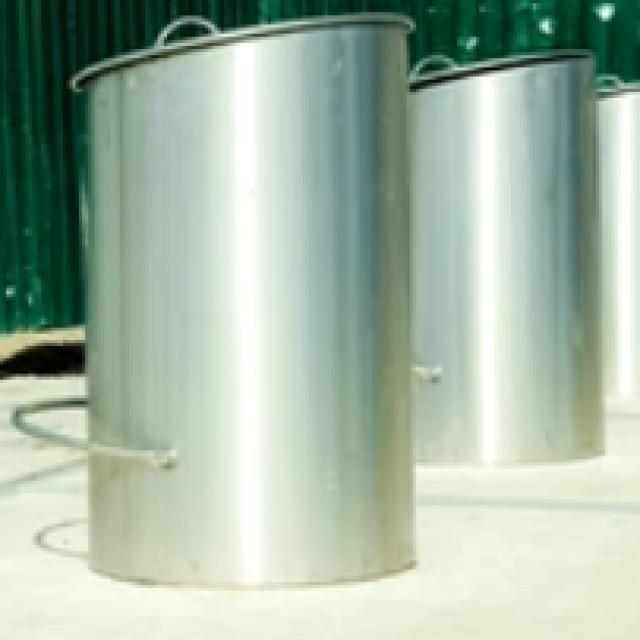Metal: (68, 11, 420, 590), (402, 47, 612, 470)
